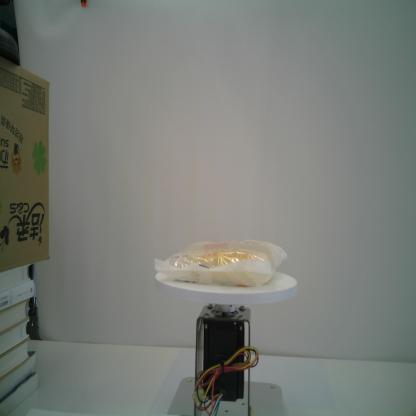Dessert: (154, 238, 288, 288)
